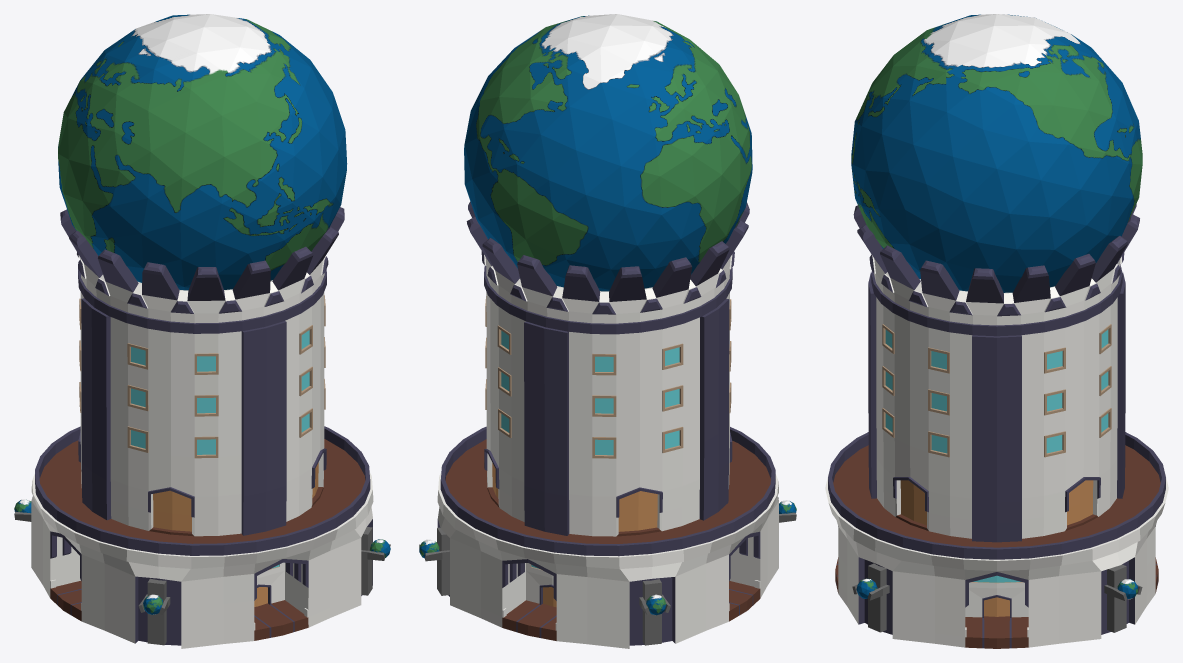
The model's file is Tori_TransportHub.fbx.
The picture shows the model from 3 angles, left to right: view 1: azimuth 30°, elevation 25°; view 2: azimuth 150°, elevation 25°; view 3: azimuth 270°, elevation 25°; orthographic projection.
Visible parts, largest first — view 1: Transport Hub, Patsaat; view 2: Transport Hub, Patsaat; view 3: Transport Hub, Patsaat.
Part boxes in pixels (box(x1,y1,x2,y2)): Transport Hub: box(31, 14, 373, 648); Patsaat: box(14, 499, 390, 645); Transport Hub: box(437, 14, 778, 648); Patsaat: box(419, 497, 796, 645); Transport Hub: box(825, 14, 1168, 648); Patsaat: box(852, 563, 1142, 632).
Bounding box in the file's own units: 5308 × 9448 × 5308.
